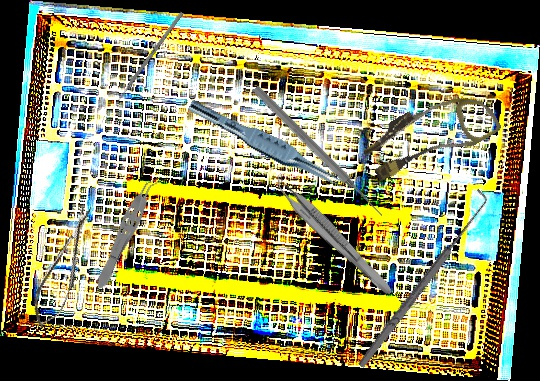Cannula: (357, 75, 503, 195)
Hook Surgical: (349, 188, 495, 371)
Micro Scissor: (23, 200, 106, 333)
Pusher: (250, 84, 387, 220), (110, 11, 184, 111)
Tissue Forceps: (267, 171, 401, 298), (183, 98, 350, 193), (89, 168, 166, 295)
